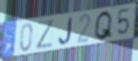0: (19, 22, 34, 53)
2: (76, 12, 93, 45)
5: (116, 7, 131, 38)
J: (58, 16, 74, 46)
Q: (93, 10, 114, 42)
Z: (35, 19, 55, 51)
